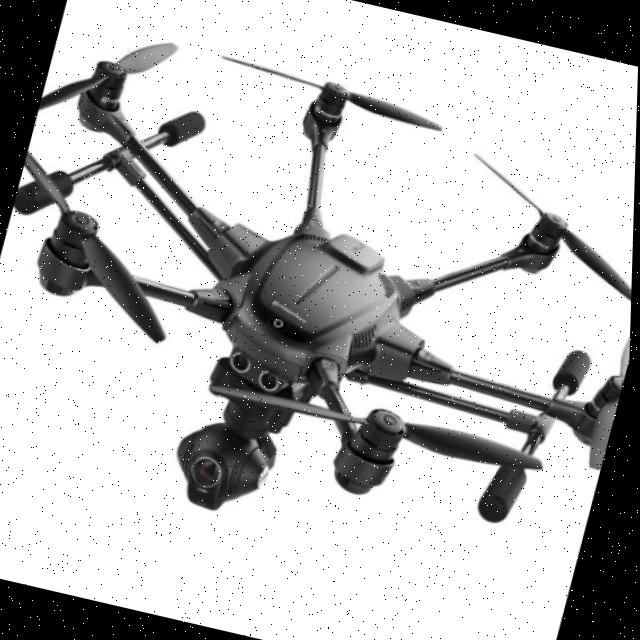drones: (0, 17, 640, 527)
